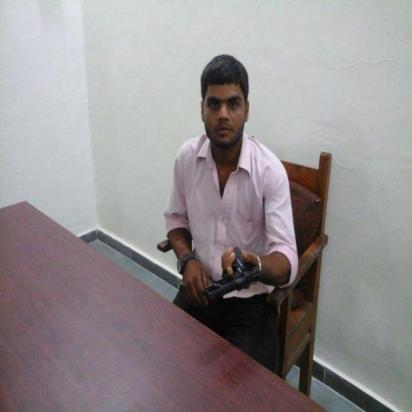Gun: (202, 244, 265, 306)
